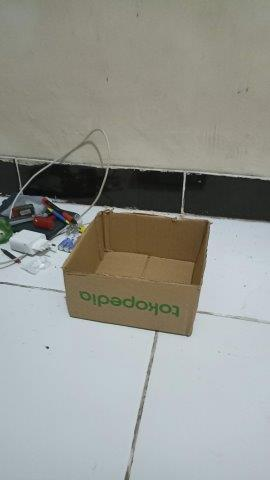kardus: (64, 211, 207, 334)
